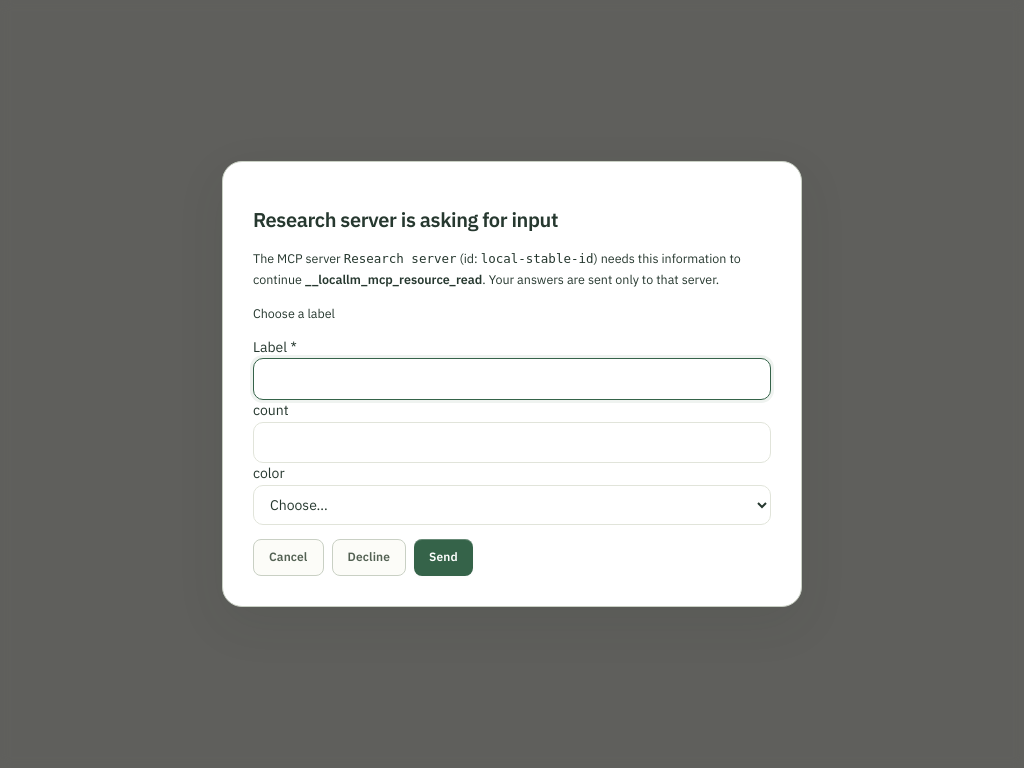
Test: tool controls › MCP input form › keeps the dialog open when the backend rejects an invalid answer
Type "green" into the field labelled "Label *" at [512, 379], box [253, 358, 771, 400]
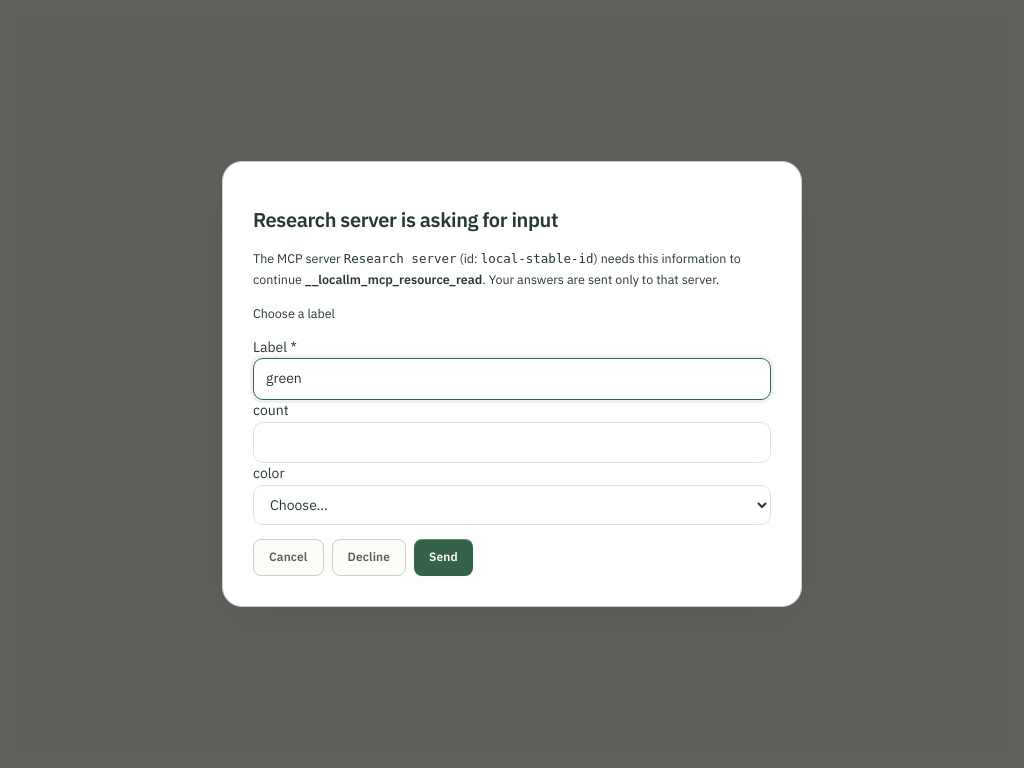
Click the button "Send" at [444, 557], box [414, 539, 473, 576]
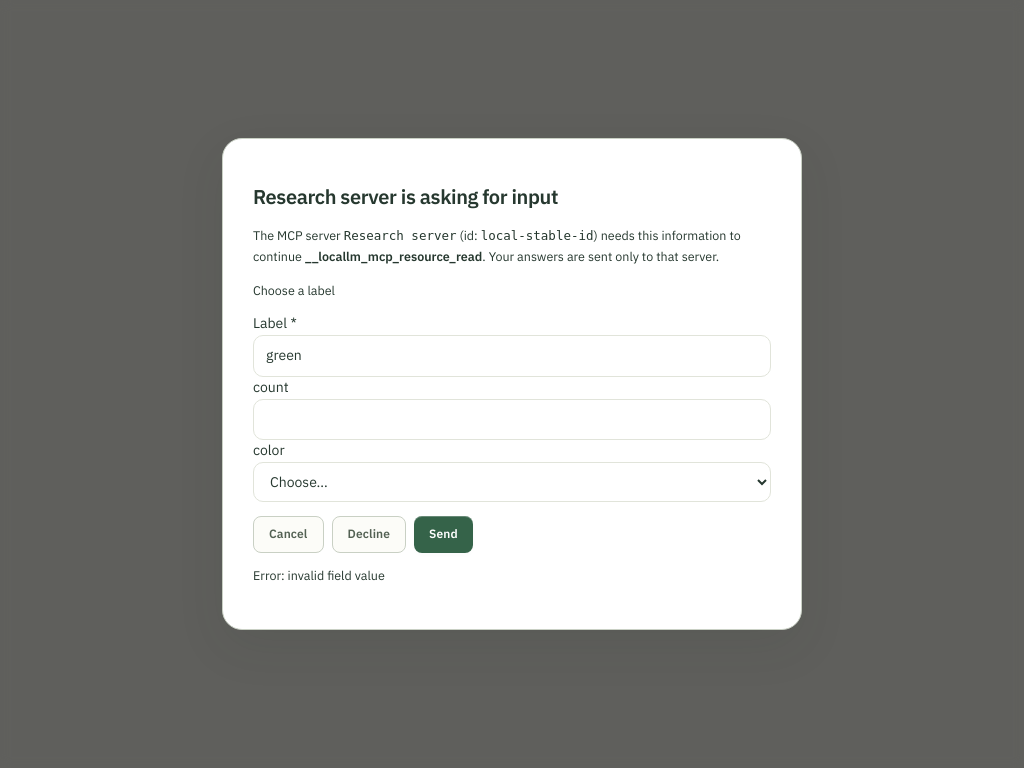
Now the message shows "invalid field value", box [253, 567, 385, 583]
